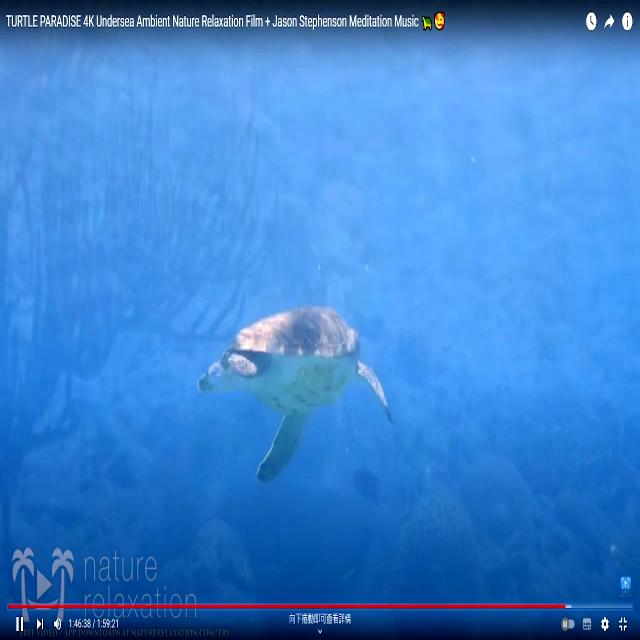Sea turtle: (195, 302, 394, 487)
